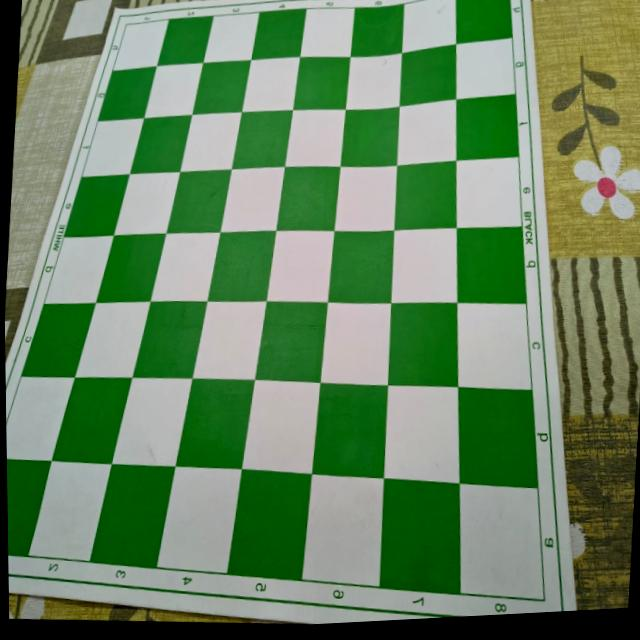square: (452, 479, 552, 606), (375, 472, 468, 599), (82, 460, 177, 577), (223, 465, 313, 588), (301, 472, 387, 594), (452, 382, 547, 492), (153, 463, 241, 579), (24, 458, 111, 568), (380, 382, 465, 489), (166, 375, 255, 476), (238, 380, 321, 479), (110, 374, 191, 474), (311, 381, 389, 484), (47, 372, 132, 466), (455, 297, 538, 390), (384, 297, 464, 390), (188, 298, 268, 387), (455, 220, 533, 307), (318, 299, 393, 389), (249, 296, 328, 381), (201, 223, 277, 308), (127, 298, 203, 383), (20, 295, 95, 380), (72, 297, 147, 382), (389, 222, 463, 307), (6, 374, 74, 462), (326, 225, 397, 309), (261, 225, 334, 306), (454, 155, 526, 237), (147, 228, 220, 308), (391, 155, 461, 237), (42, 231, 114, 309), (94, 228, 164, 308), (217, 161, 287, 236), (60, 168, 128, 244), (454, 90, 522, 165), (164, 164, 231, 238), (333, 163, 399, 238), (113, 168, 181, 239), (395, 97, 459, 171), (274, 160, 340, 231), (454, 33, 519, 105), (7, 454, 50, 561), (126, 110, 191, 179), (228, 104, 292, 173), (177, 106, 242, 173), (399, 39, 460, 110), (282, 105, 347, 170), (80, 114, 144, 180), (340, 103, 401, 171), (344, 50, 403, 116), (240, 53, 300, 116), (97, 62, 155, 127), (190, 55, 249, 117), (142, 61, 200, 124), (291, 50, 349, 112), (250, 2, 308, 63), (349, 0, 405, 59), (401, 0, 460, 56), (156, 10, 212, 68), (112, 19, 169, 71), (456, 0, 518, 47), (202, 13, 259, 63), (300, 9, 354, 57), (61, 0, 115, 44)
